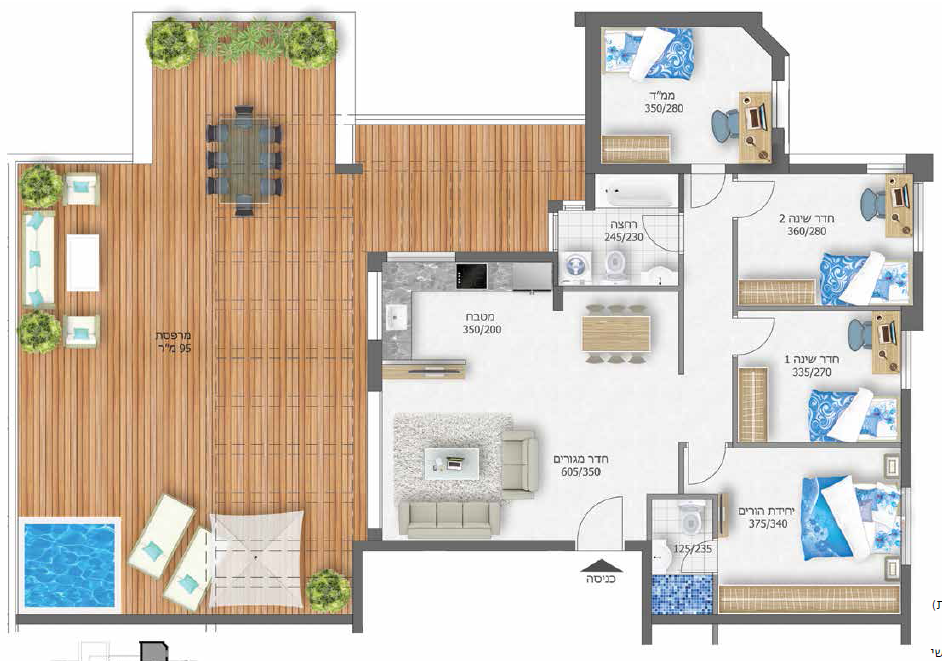door: (571, 491, 637, 538), (739, 314, 779, 361), (739, 178, 779, 225), (685, 448, 728, 491), (636, 211, 677, 255), (688, 175, 728, 213)
wall: (16, 613, 353, 624), (586, 12, 762, 26), (585, 26, 601, 173), (353, 540, 576, 550), (652, 615, 911, 623), (724, 164, 865, 174), (352, 552, 363, 633), (601, 164, 690, 174)
window: (368, 390, 383, 527), (368, 271, 383, 341), (900, 486, 913, 565), (912, 180, 924, 253), (899, 332, 912, 392), (386, 251, 455, 262), (866, 162, 906, 174), (548, 212, 559, 252), (562, 199, 586, 211)
